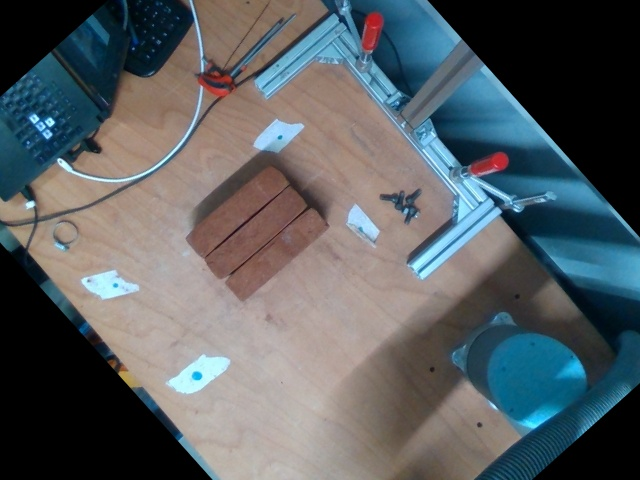brick-side: (224, 205, 329, 303), (182, 162, 288, 259), (203, 184, 309, 280)
